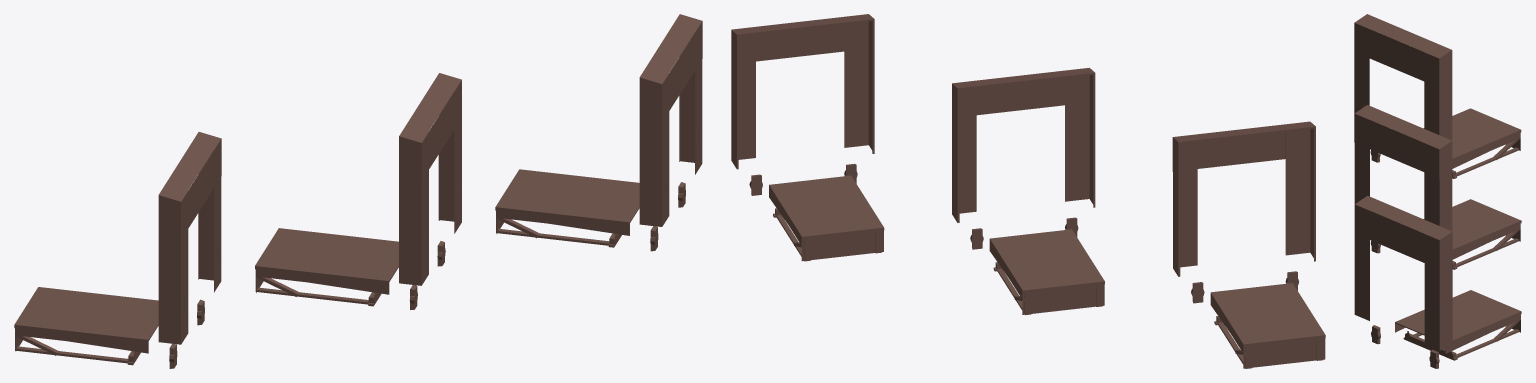
The model's file is GCC-AAV-13220-30.nwd(1).fbx.
3 views of the same model, side by side, from view 1: azimuth 30°, elevation 25°; view 2: azimuth 150°, elevation 25°; view 3: azimuth 270°, elevation 25° (orthographic). The views are drawn at different scales.
Visible parts, largest first — view 1: BOX 11 of EQUIPMENT /701-ME-143, BOX 11 of EQUIPMENT /701-ME-141, BOX 11 of EQUIPMENT /701-ME-142, PYRAMID 1 of EQUIPMENT /701-ME-142, PYRAMID 1 of EQUIPMENT /701-ME-143, PYRAMID 1 of EQUIPMENT /701-ME-141, PYRAMID 3 of EQUIPMENT /701-ME-141, PYRAMID 3 of EQUIPMENT /701-ME-142, PYRAMID 3 of EQUIPMENT /701-ME-143, BOX 3 of EQUIPMENT /701-ME-143, BOX 3 of EQUIPMENT /701-ME-141, BOX 3 of EQUIPMENT /701-ME-142 (+12 smaller); view 2: BOX 11 of EQUIPMENT /701-ME-141, BOX 11 of EQUIPMENT /701-ME-142, BOX 11 of EQUIPMENT /701-ME-143, BOX 4 of EQUIPMENT /701-ME-143, BOX 4 of EQUIPMENT /701-ME-142, BOX 4 of EQUIPMENT /701-ME-141, BOX 3 of EQUIPMENT /701-ME-143, BOX 3 of EQUIPMENT /701-ME-141, BOX 3 of EQUIPMENT /701-ME-142, BOX 5 of EQUIPMENT /701-ME-142, BOX 5 of EQUIPMENT /701-ME-143, BOX 5 of EQUIPMENT /701-ME-141 (+15 smaller); view 3: BOX 3 of EQUIPMENT /701-ME-141, BOX 3 of EQUIPMENT /701-ME-142, BOX 3 of EQUIPMENT /701-ME-143, BOX 11 of EQUIPMENT /701-ME-141, BOX 11 of EQUIPMENT /701-ME-142, BOX 11 of EQUIPMENT /701-ME-143, PYRAMID 2 of EQUIPMENT /701-ME-141, BOX 5 of EQUIPMENT /701-ME-141, BOX 4 of EQUIPMENT /701-ME-141, PYRAMID 3 of EQUIPMENT /701-ME-141, PYRAMID 3 of EQUIPMENT /701-ME-142, PYRAMID 3 of EQUIPMENT /701-ME-143 (+13 smaller).
Boxes of the visible parts, <box> form: BOX 11 of EQUIPMENT /701-ME-143: <box>15,287,158,340</box>; BOX 11 of EQUIPMENT /701-ME-141: <box>496,169,639,222</box>; BOX 11 of EQUIPMENT /701-ME-142: <box>256,228,398,281</box>; PYRAMID 1 of EQUIPMENT /701-ME-142: <box>399,136,421,285</box>; PYRAMID 1 of EQUIPMENT /701-ME-143: <box>158,195,180,344</box>; PYRAMID 1 of EQUIPMENT /701-ME-141: <box>639,77,661,226</box>; PYRAMID 3 of EQUIPMENT /701-ME-141: <box>639,14,701,83</box>; PYRAMID 3 of EQUIPMENT /701-ME-142: <box>399,73,461,142</box>; PYRAMID 3 of EQUIPMENT /701-ME-143: <box>159,132,220,201</box>; BOX 3 of EQUIPMENT /701-ME-143: <box>181,138,221,239</box>; BOX 3 of EQUIPMENT /701-ME-141: <box>662,21,702,121</box>; BOX 3 of EQUIPMENT /701-ME-142: <box>421,80,461,180</box>; BOX 11 of EQUIPMENT /701-ME-141: <box>769,175,883,236</box>; BOX 11 of EQUIPMENT /701-ME-142: <box>990,229,1104,289</box>; BOX 11 of EQUIPMENT /701-ME-143: <box>1210,283,1324,344</box>; BOX 4 of EQUIPMENT /701-ME-143: <box>1285,121,1310,255</box>; BOX 4 of EQUIPMENT /701-ME-142: <box>1065,68,1089,201</box>; BOX 4 of EQUIPMENT /701-ME-141: <box>844,14,868,147</box>; BOX 3 of EQUIPMENT /701-ME-143: <box>1172,121,1307,171</box>; BOX 3 of EQUIPMENT /701-ME-141: <box>732,14,867,61</box>; BOX 3 of EQUIPMENT /701-ME-142: <box>953,67,1089,115</box>; BOX 5 of EQUIPMENT /701-ME-142: <box>954,80,976,213</box>; BOX 5 of EQUIPMENT /701-ME-143: <box>1173,134,1197,267</box>; BOX 5 of EQUIPMENT /701-ME-141: <box>733,27,755,159</box>; BOX 3 of EQUIPMENT /701-ME-141: <box>1354,204,1439,269</box>; BOX 3 of EQUIPMENT /701-ME-142: <box>1354,113,1439,178</box>; BOX 3 of EQUIPMENT /701-ME-143: <box>1354,23,1439,87</box>; BOX 11 of EQUIPMENT /701-ME-141: <box>1395,290,1520,340</box>; BOX 11 of EQUIPMENT /701-ME-142: <box>1423,199,1520,249</box>; BOX 11 of EQUIPMENT /701-ME-143: <box>1423,108,1520,159</box>; PYRAMID 2 of EQUIPMENT /701-ME-141: <box>1440,232,1452,350</box>; BOX 5 of EQUIPMENT /701-ME-141: <box>1424,236,1439,350</box>; BOX 4 of EQUIPMENT /701-ME-141: <box>1354,206,1369,320</box>; PYRAMID 3 of EQUIPMENT /701-ME-141: <box>1355,195,1452,239</box>; PYRAMID 3 of EQUIPMENT /701-ME-142: <box>1355,105,1451,148</box>; PYRAMID 3 of EQUIPMENT /701-ME-143: <box>1355,14,1451,58</box>.
Bounding box in the file's own units: 655 × 175 × 184.
